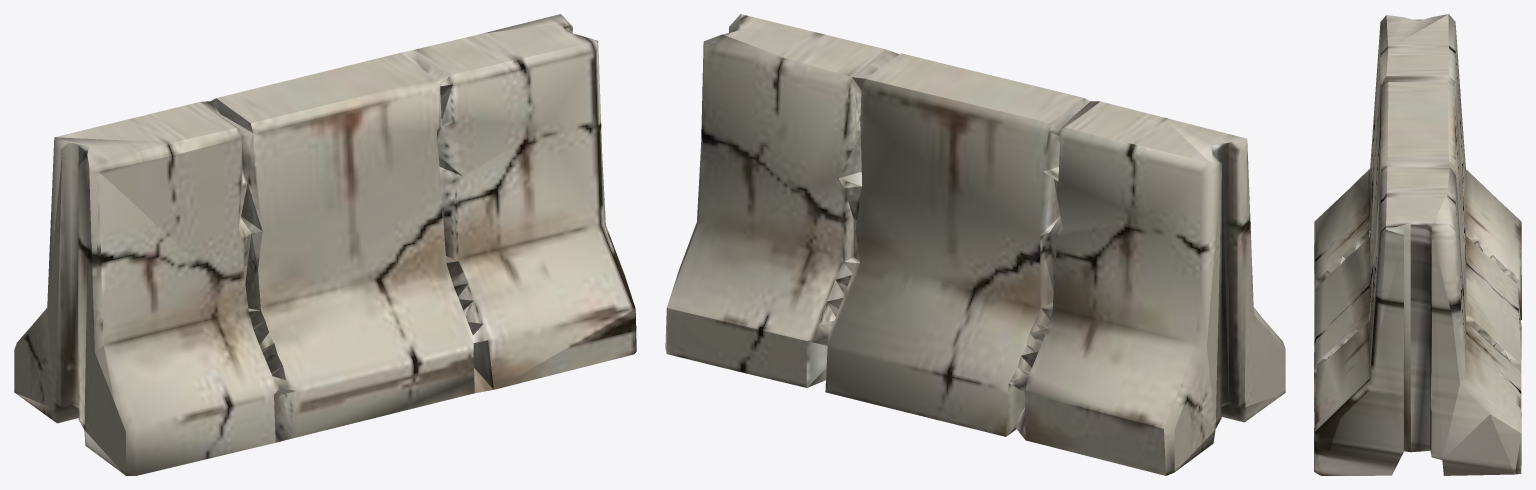
File: prop_jersey_barrier.glb
The picture shows the model from 3 angles, left to right: view 1: azimuth 30°, elevation 25°; view 2: azimuth 150°, elevation 25°; view 3: azimuth 270°, elevation 25°; orthographic projection. The views are drawn at different scales.
Visible parts, largest first — view 1: Mesh_0; view 2: Mesh_0; view 3: Mesh_0.
Part boxes in pixels (x1,y1,x2,y2): Mesh_0: [14, 14, 636, 475]; Mesh_0: [665, 14, 1285, 475]; Mesh_0: [1314, 14, 1521, 475].
Bounding box in the file's own units: 2 × 1.06 × 0.8118.
Materials: 1 (1 with a texture image).
